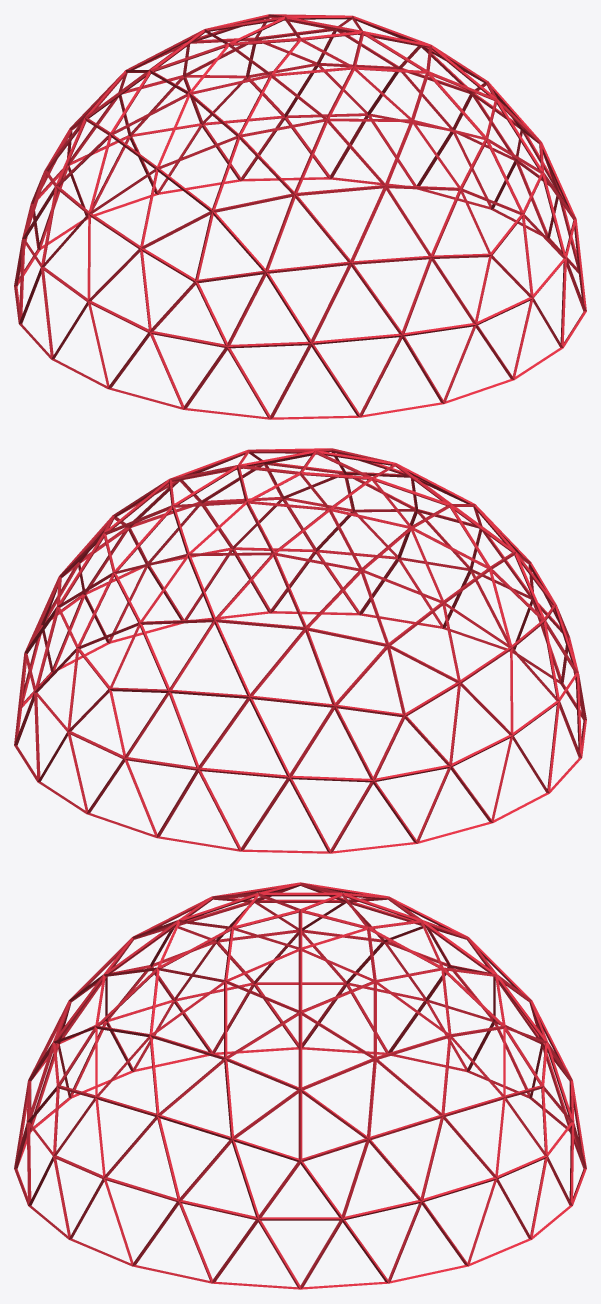
Rendered from Dome_Frame.fbx.
3 views of the same model, one above another, from view 1: azimuth 30°, elevation 25°; view 2: azimuth 150°, elevation 25°; view 3: azimuth 270°, elevation 25° (orthographic).
Parts seen in each view (by area): view 1: Icosphere; view 2: Icosphere; view 3: Icosphere.
Part boxes in pixels (x1=…): Icosphere: x1=14, y1=14, x2=586, y2=419; Icosphere: x1=14, y1=448, x2=586, y2=853; Icosphere: x1=14, y1=882, x2=586, y2=1289.
Bounding box in the file's own units: 4025 × 2014 × 4025.
